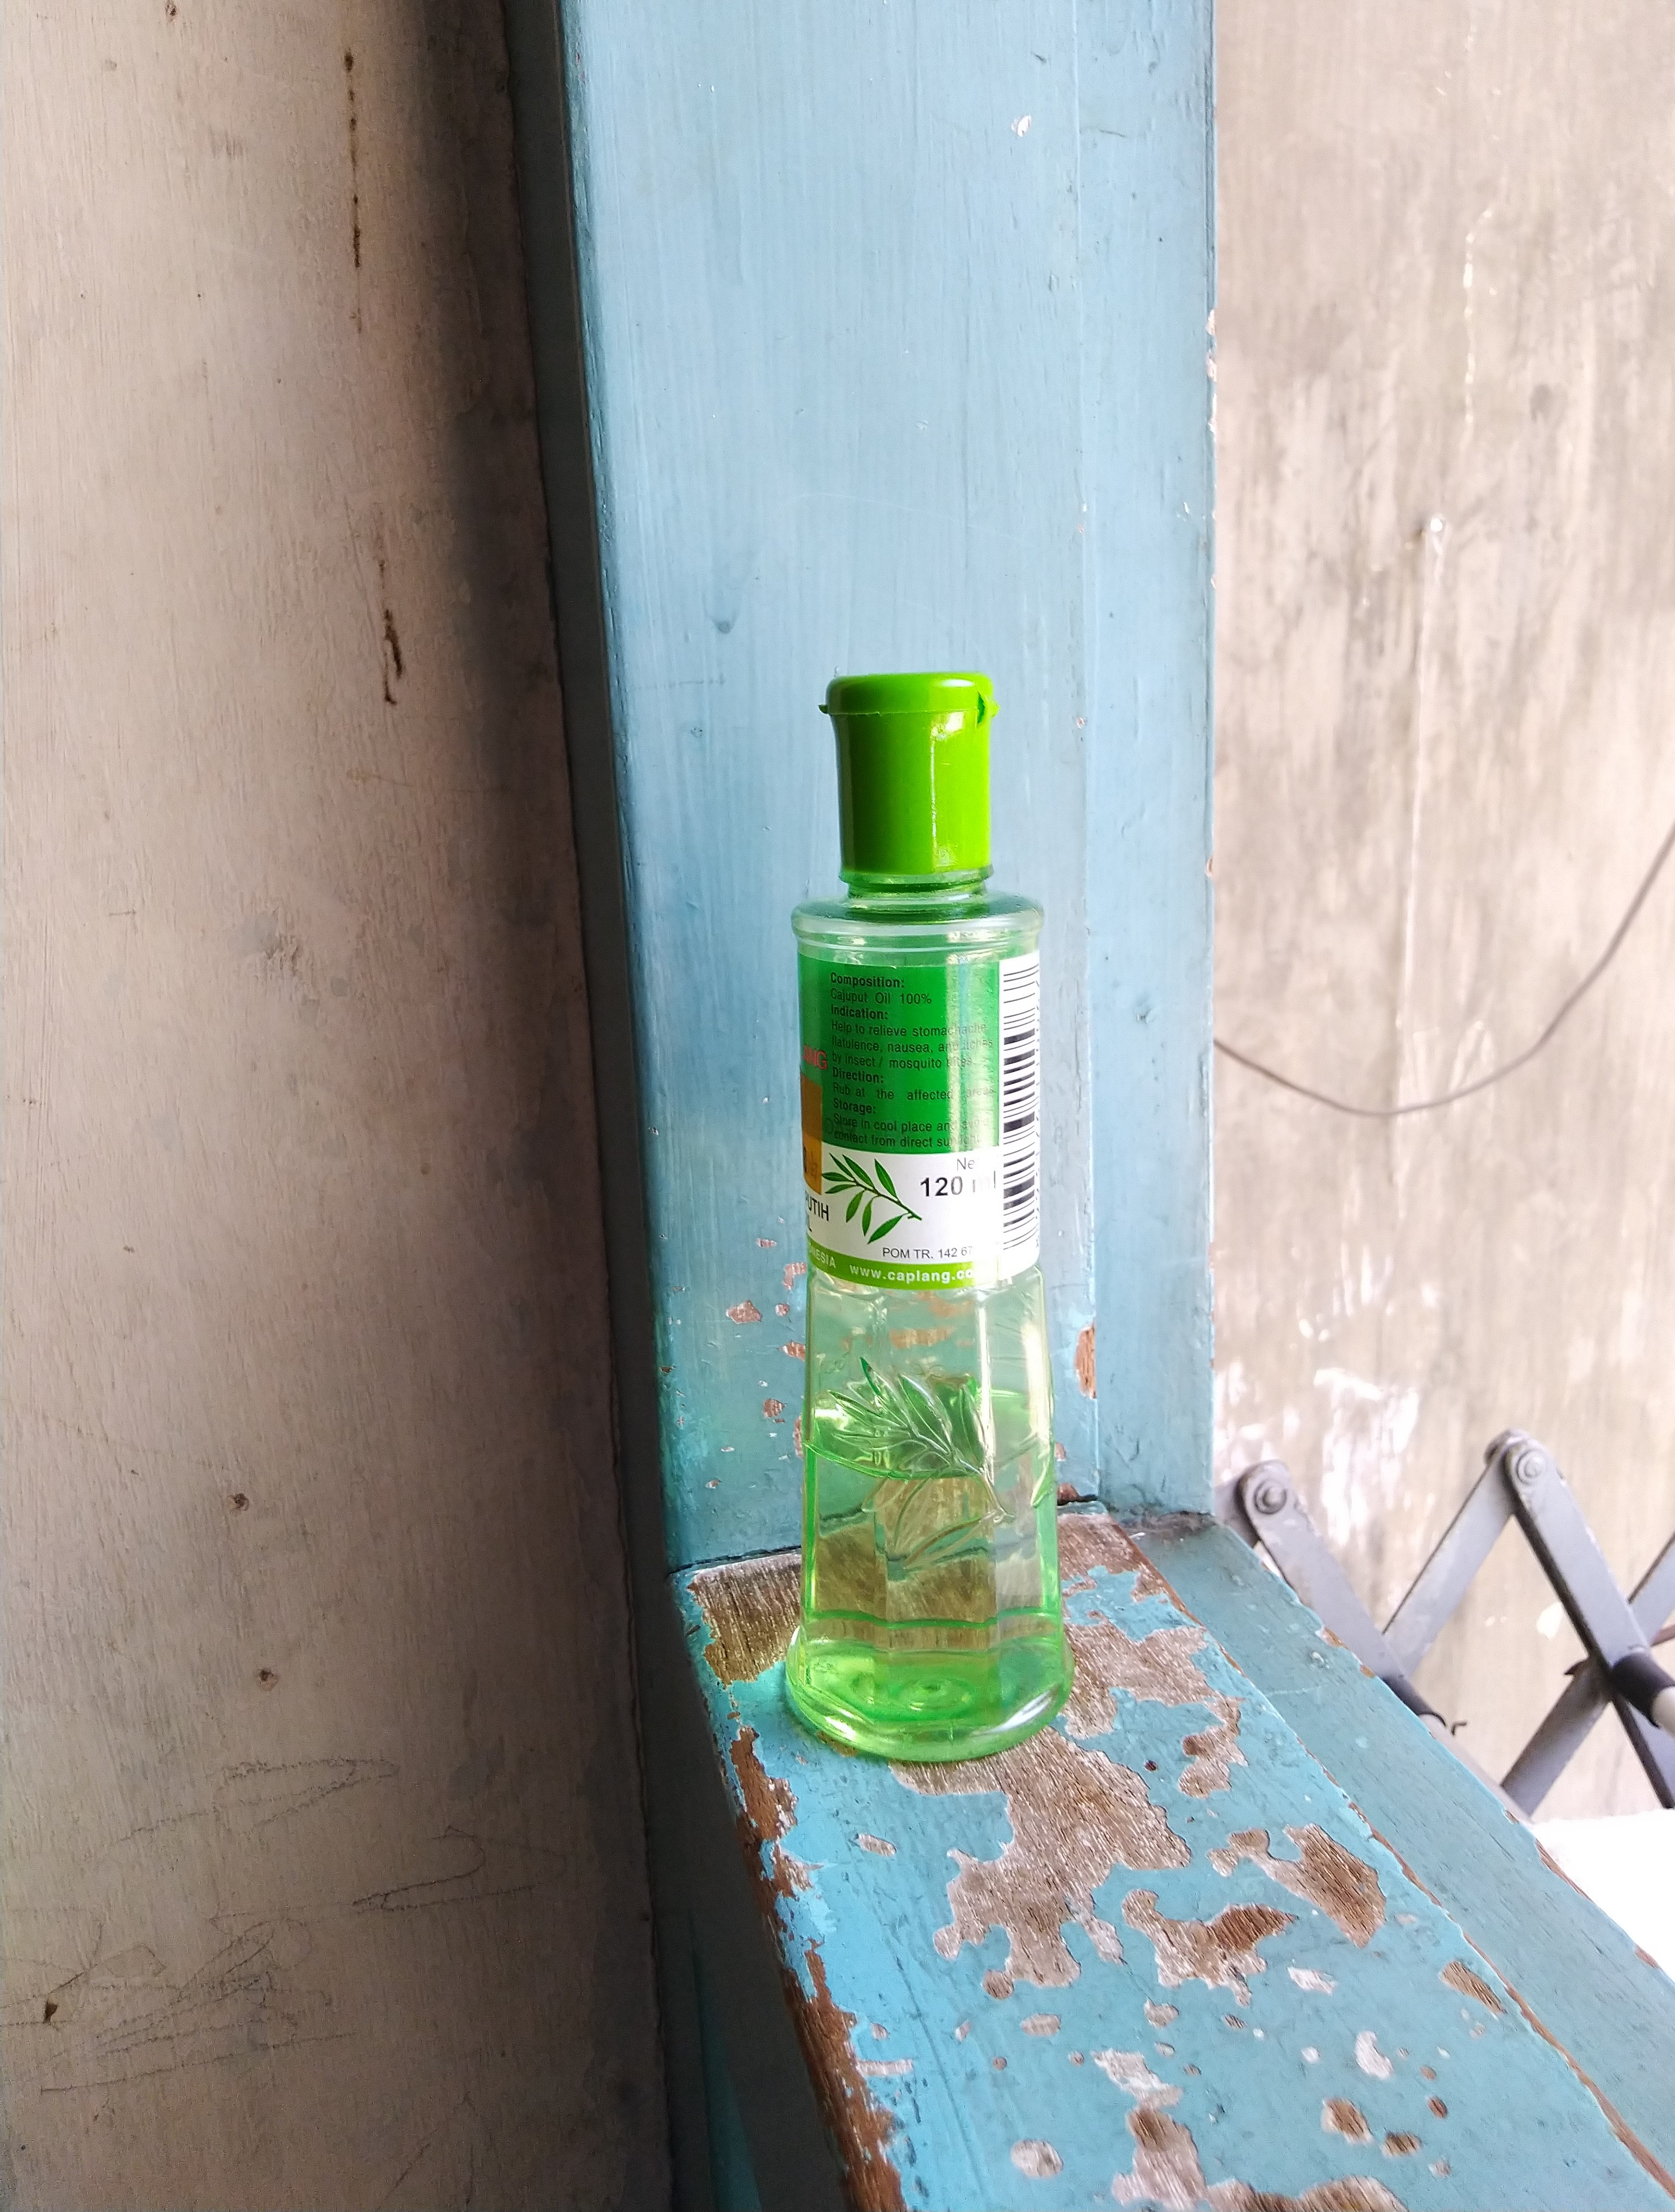HDPE: (820, 667, 1001, 889)
PET: (790, 901, 1079, 1758)
